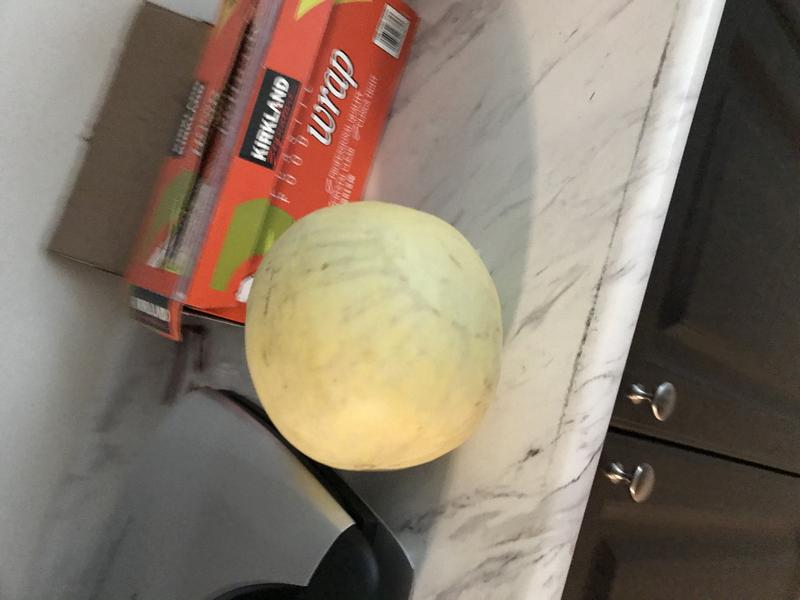honeydew: (236, 190, 513, 483)
